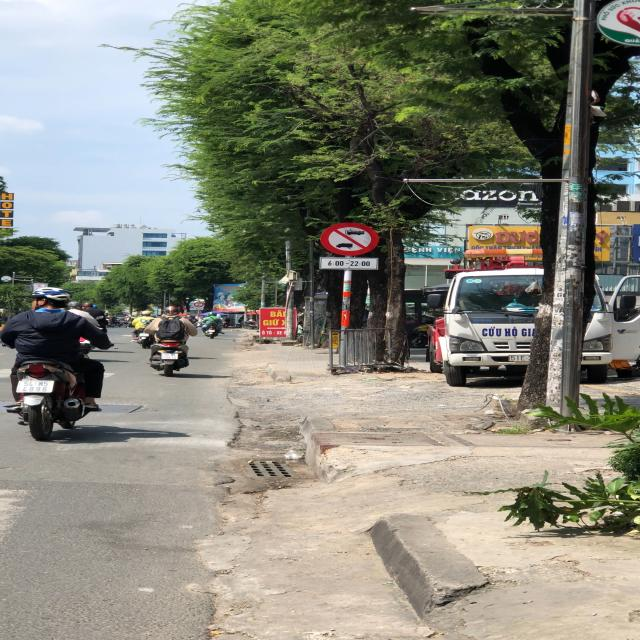Bien bao cam xe oto khach va xe oto tai: (312, 222, 384, 259)
